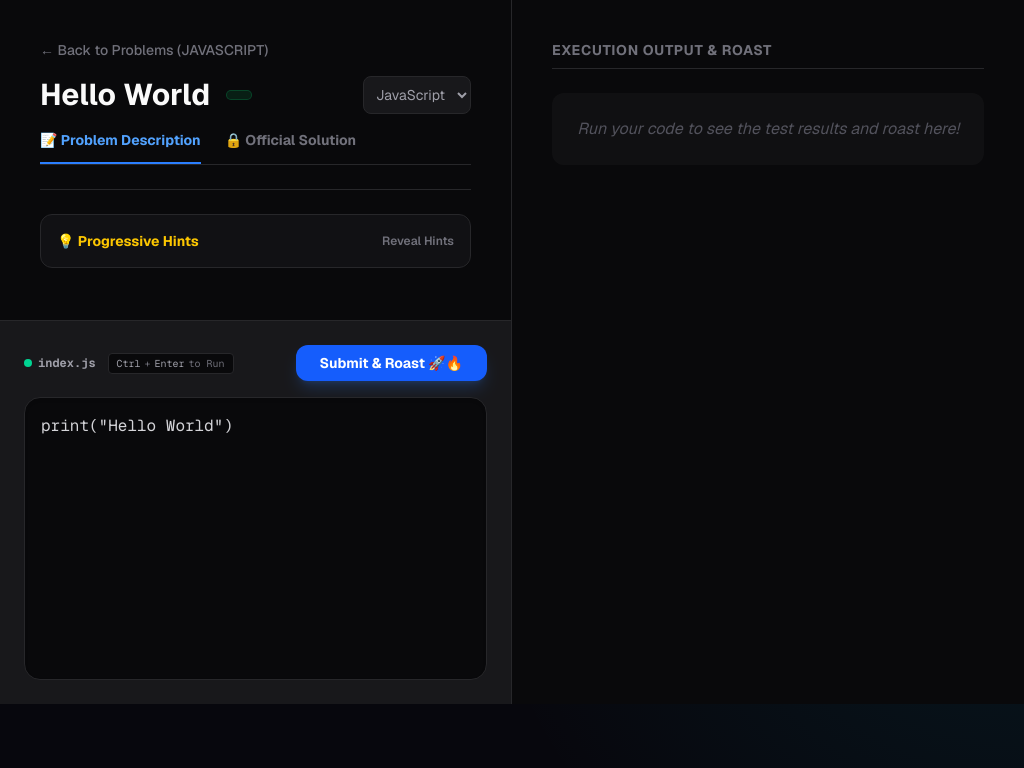
Scenario: ProblemSolverPage - Execution Feedback › runs beginner script problem with expectedOutput and passes without test harness when stdout matches
The width and height of the screenshot is (1024, 768).
Click the button "Submit & Roast 🚀🔥" at (391, 363), box [296,345,487,381]
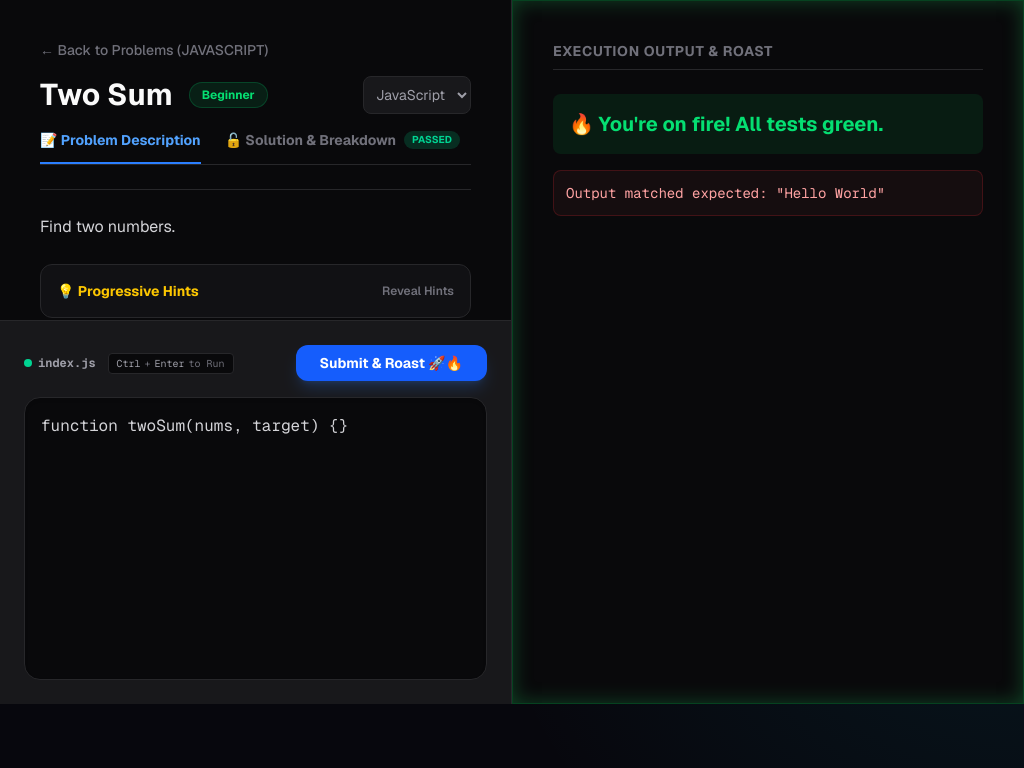
Result: the list item "Output matched expected: \"Hello World\"" is shown at [553,170,983,216]
